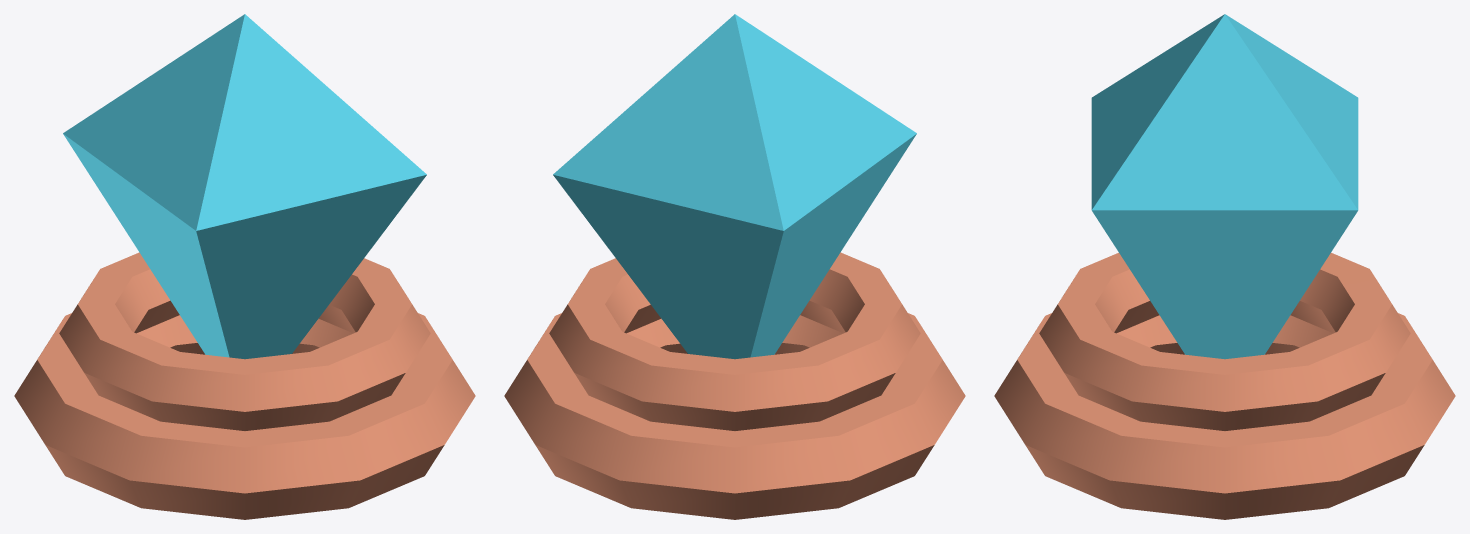
Rendered from SavePoint.glb.
3 views of the same model, side by side, from view 1: azimuth 30°, elevation 25°; view 2: azimuth 150°, elevation 25°; view 3: azimuth 270°, elevation 25° (orthographic).
Visible parts, largest first — view 1: Torus, Cube; view 2: Torus, Cube; view 3: Torus, Cube.
Part boxes in pixels (left/top/right/bottom): Torus: left=14, top=252, right=475, bottom=519; Cube: left=63, top=14, right=426, bottom=359; Torus: left=504, top=252, right=965, bottom=519; Cube: left=553, top=14, right=916, bottom=359; Torus: left=994, top=252, right=1455, bottom=519; Cube: left=1091, top=14, right=1358, bottom=359.
Size of the model in its own units: 2.5 by 2.5 by 2.5.
